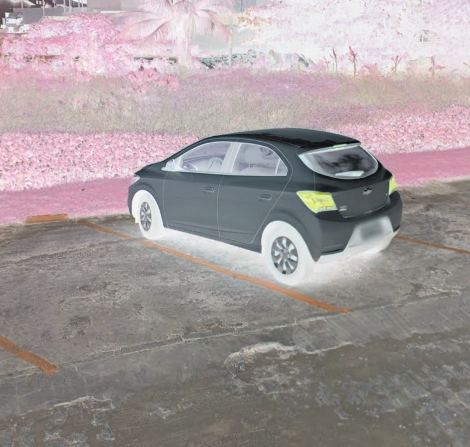car: (125, 126, 406, 285)
